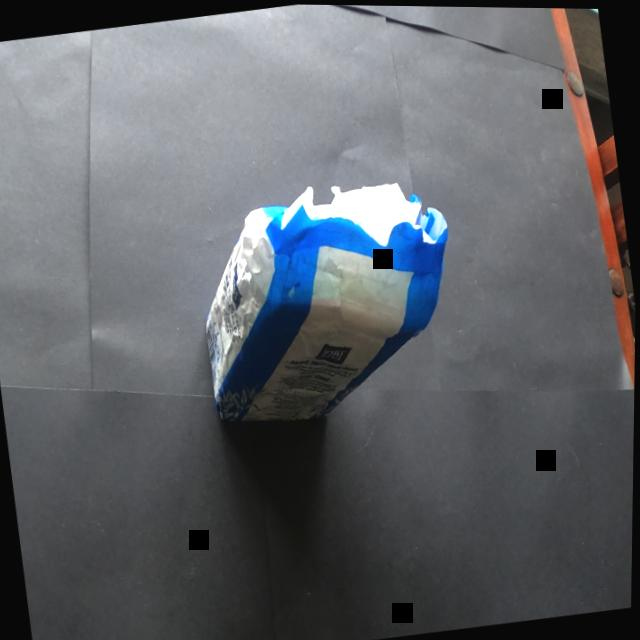Whitesugar: (148, 142, 507, 501)
